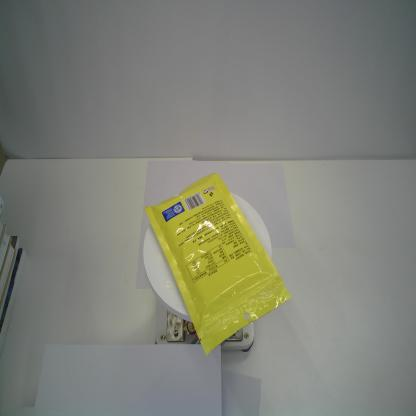Dried Fruit: (145, 172, 291, 359)
